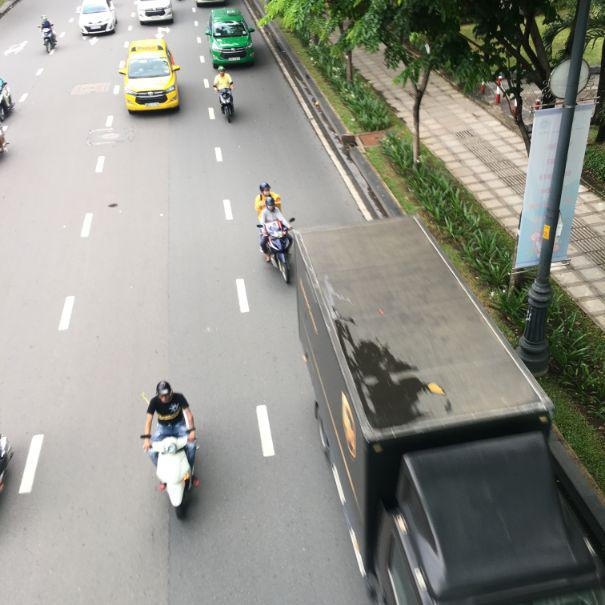car: (121, 46, 183, 113), (207, 9, 257, 68), (79, 1, 117, 36), (135, 0, 176, 28)
motorbike: (142, 424, 208, 521), (259, 220, 293, 281), (216, 89, 236, 124), (40, 32, 59, 57)
truck: (287, 226, 604, 604)
